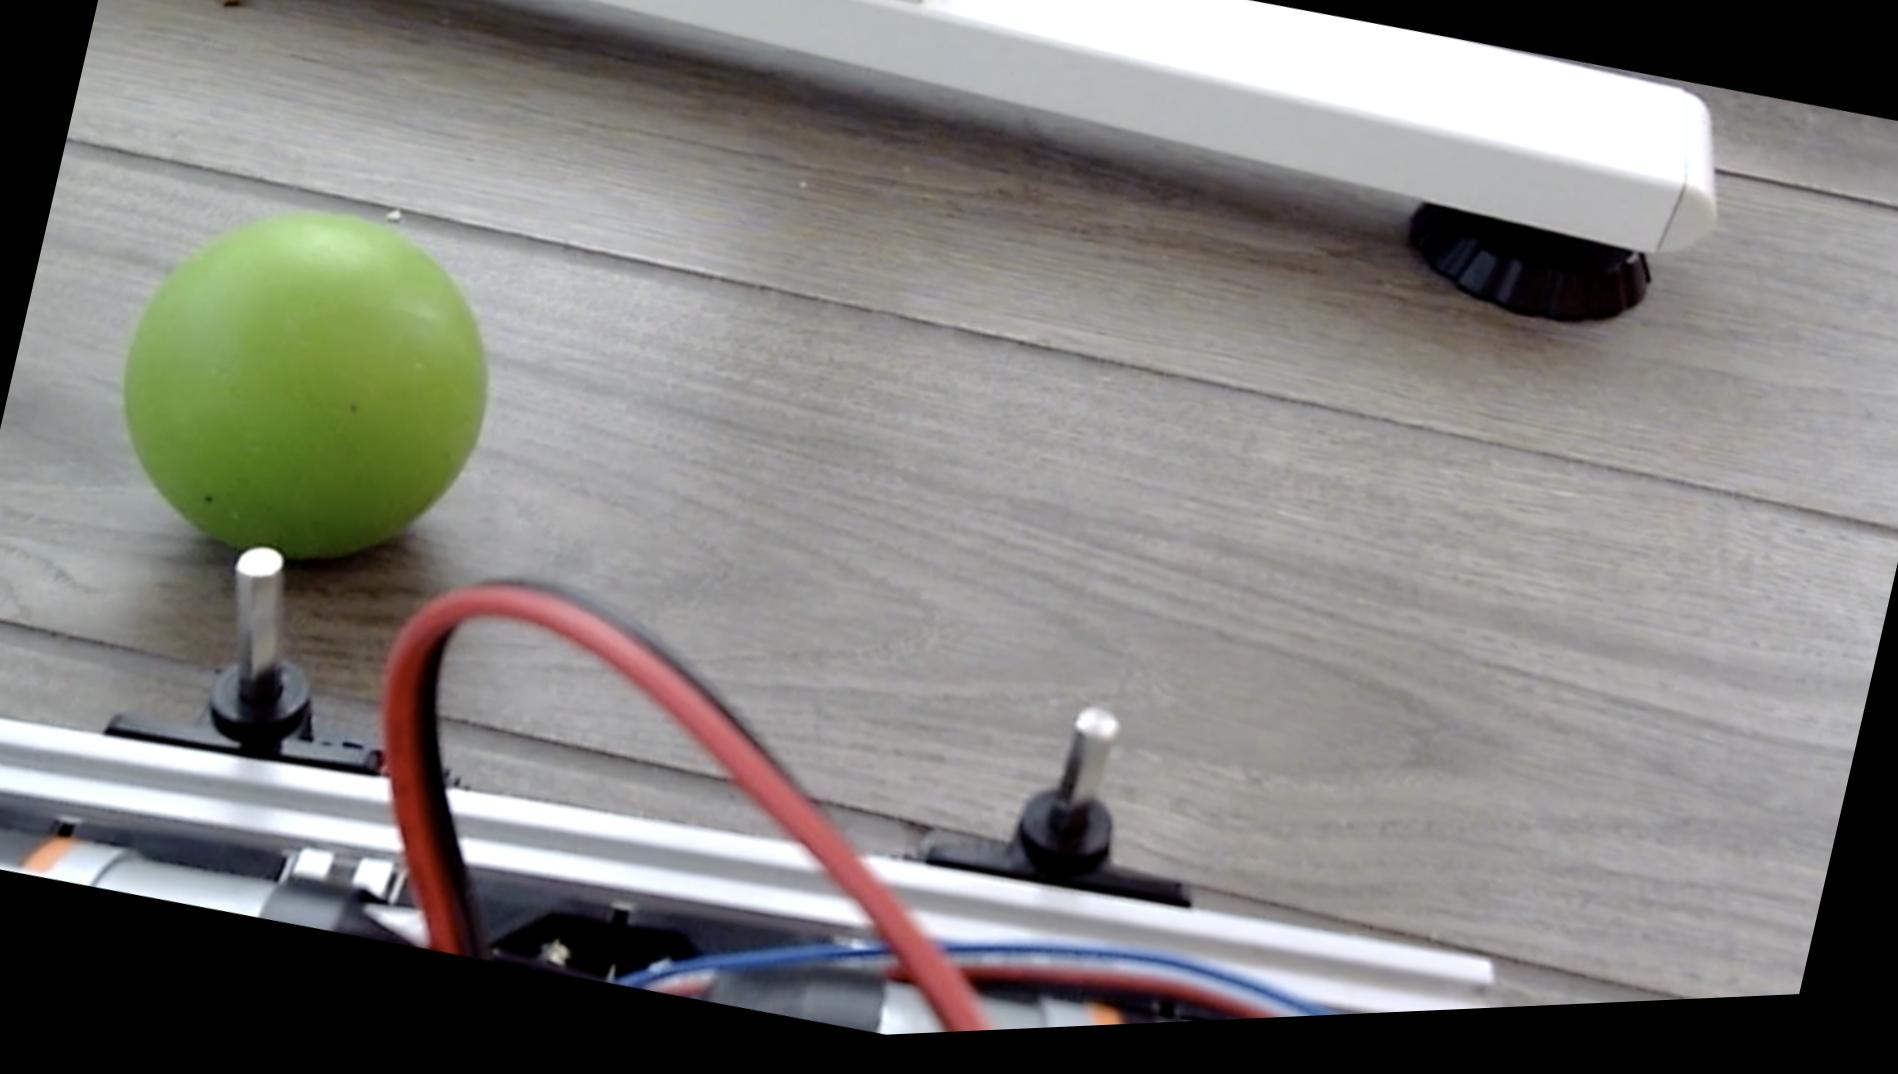greenball: (86, 164, 524, 607)
